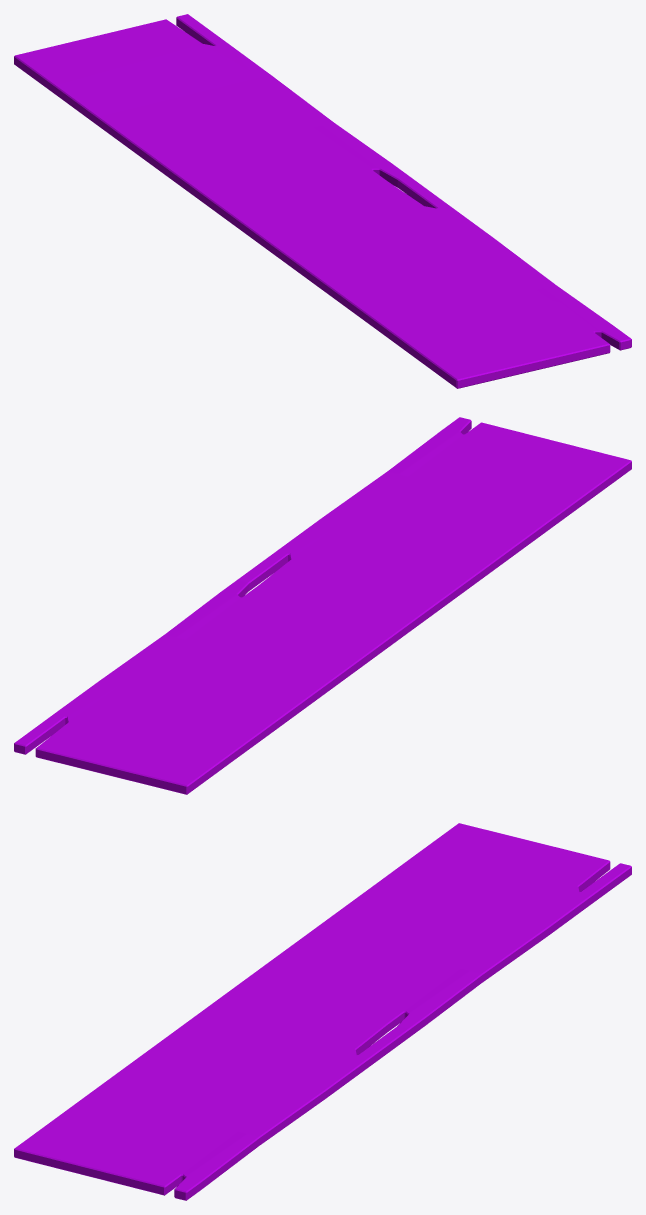
Rendered from Board_03_Long.fbx.
3 renders of one model, top to bottom at view 1: azimuth 30°, elevation 25°; view 2: azimuth 150°, elevation 25°; view 3: azimuth 330°, elevation 25°, orthographic.
Visible parts, largest first — view 1: Board_03_Long; view 2: Board_03_Long; view 3: Board_03_Long.
Boxes of the visible parts, x1,y1,x2,y2 form: Board_03_Long: [14, 14, 631, 388]; Board_03_Long: [14, 417, 631, 794]; Board_03_Long: [14, 823, 631, 1200].
Bounding box in the file's own units: 166 × 8.99 × 733.
